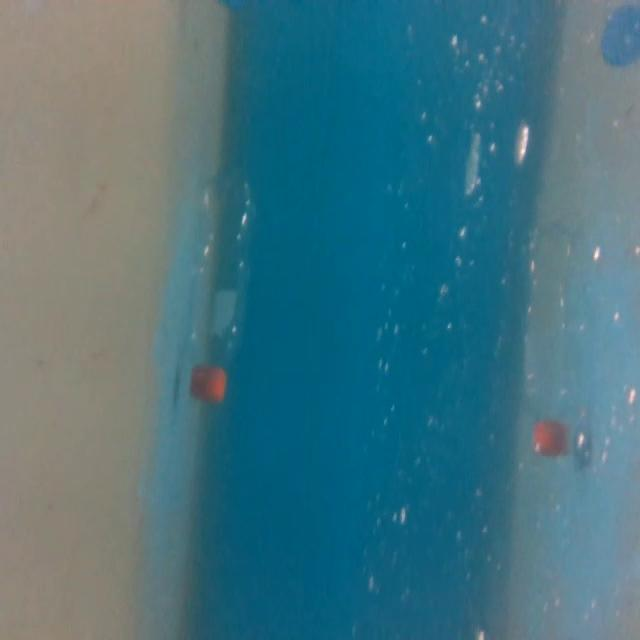plastic bottle: (185, 171, 263, 409)
